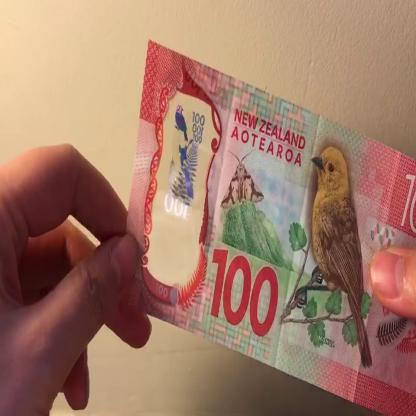100B: (162, 101, 213, 242)
